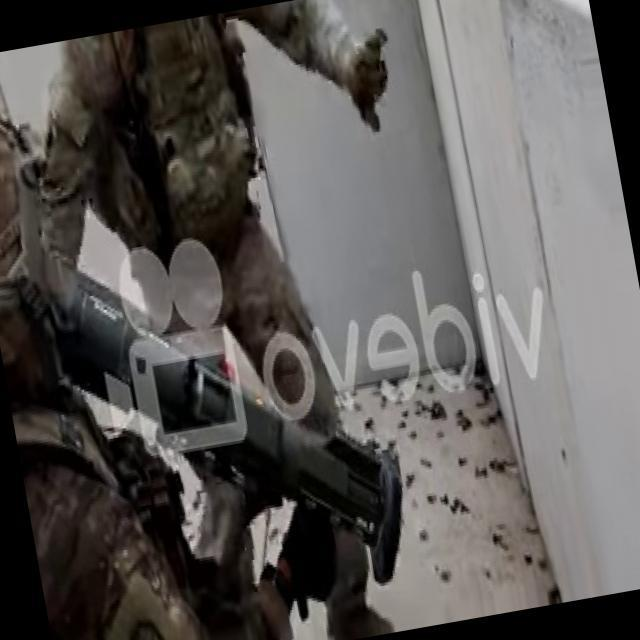rocket: (62, 215, 414, 633)
